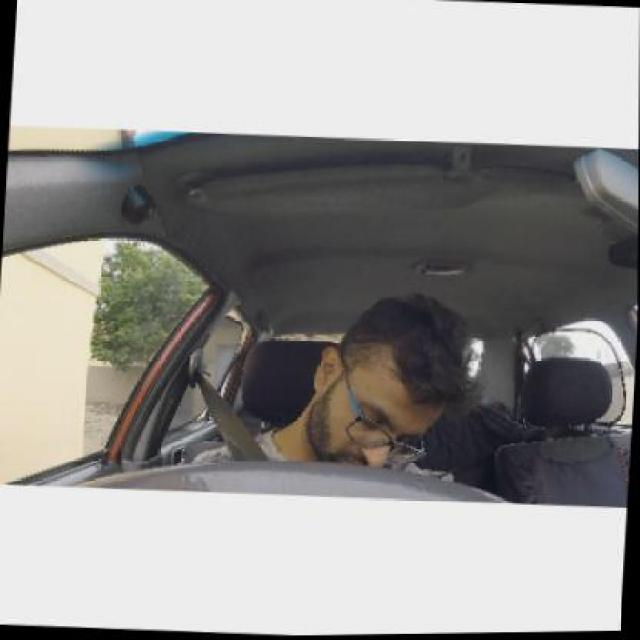drowsy: (305, 289, 472, 471)
